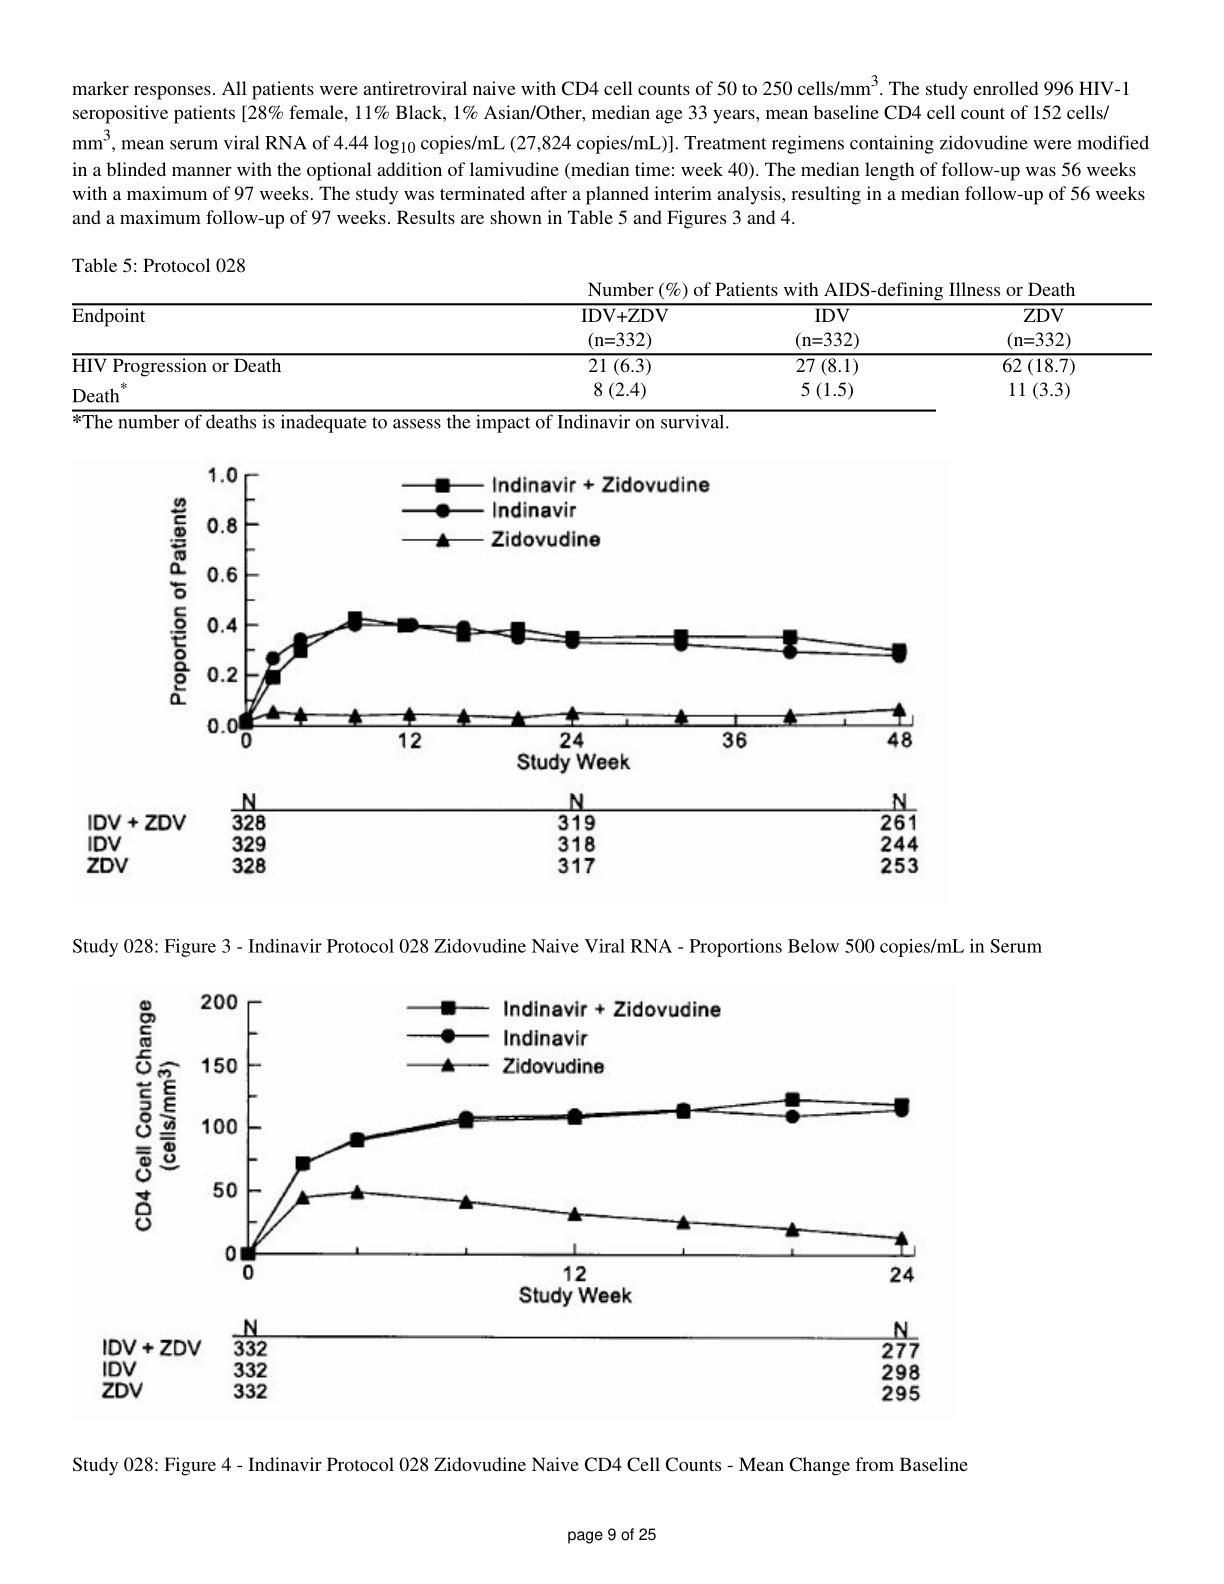partial_lined_merged_cells: (69, 276, 1155, 415)
